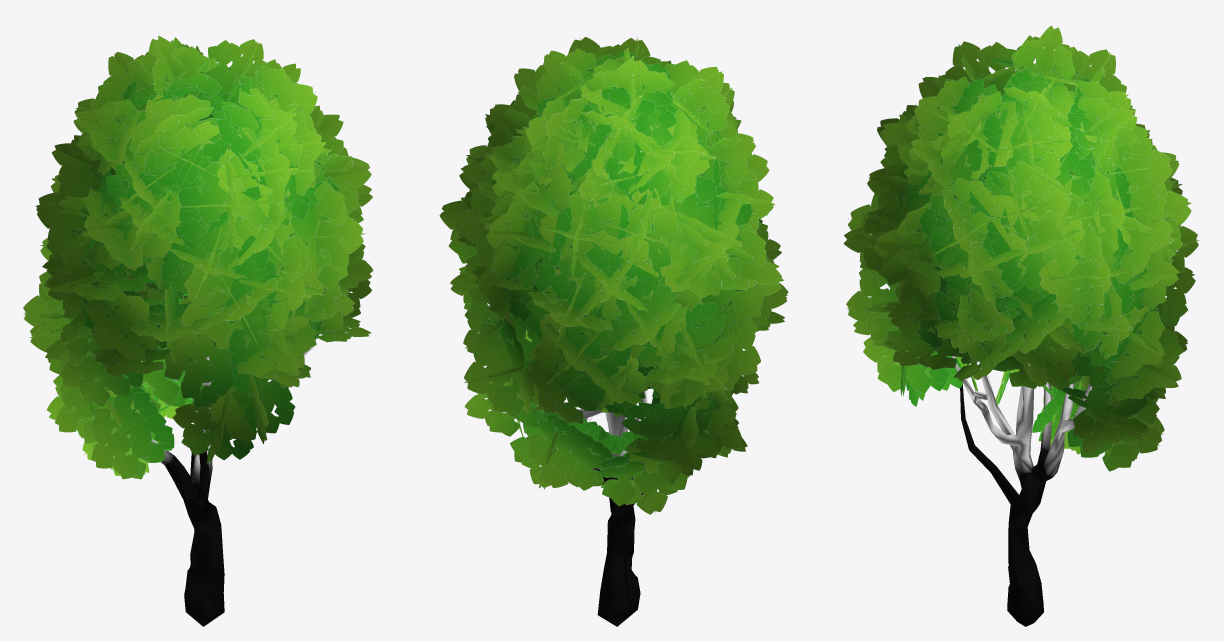
Rendered from TSP_Tree_02B.fbx.
The picture shows the model from 3 angles, left to right: view 1: azimuth 30°, elevation 25°; view 2: azimuth 150°, elevation 25°; view 3: azimuth 270°, elevation 25°; orthographic projection.
Parts seen in each view (by area): view 1: TSP_Tree_02B; view 2: TSP_Tree_02B; view 3: TSP_Tree_02B.
Part boxes in pixels (x1,y1,x2,y2): TSP_Tree_02B: (23, 35, 373, 626); TSP_Tree_02B: (439, 37, 788, 626); TSP_Tree_02B: (843, 25, 1198, 626).
Bounding box in the file's own units: 4.43 × 7.67 × 4.33.
